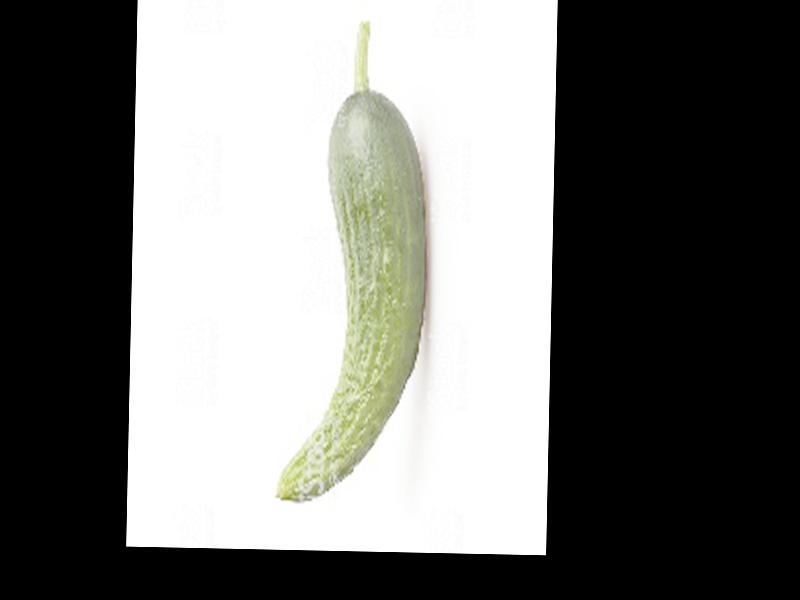Cucumber: (277, 19, 431, 505)
